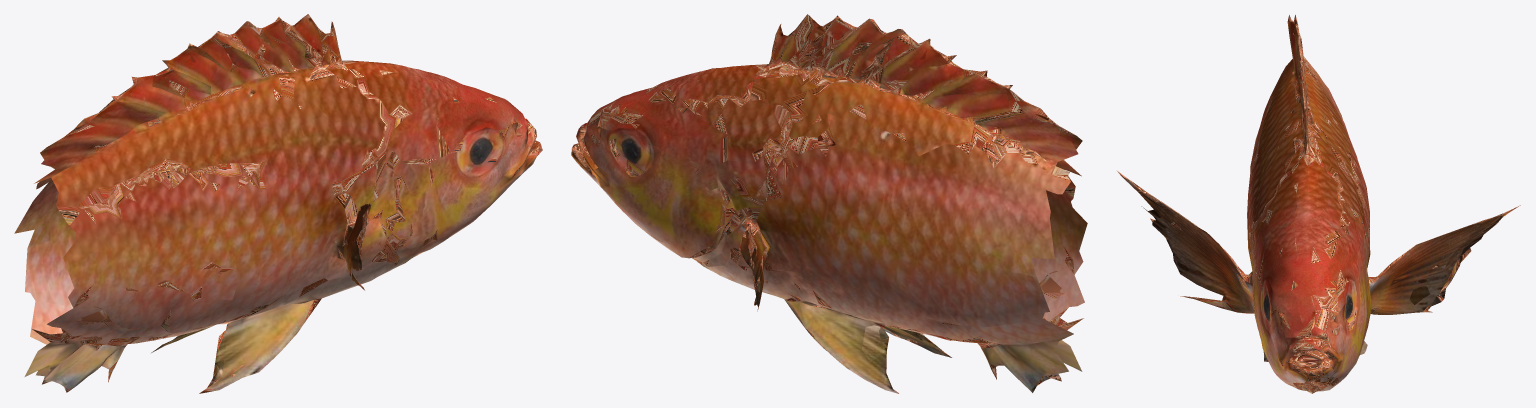
The model's file is monocle_a.glb.
3 views of the same model, side by side, from view 1: azimuth 30°, elevation 25°; view 2: azimuth 150°, elevation 25°; view 3: azimuth 270°, elevation 25° (orthographic). The views are drawn at different scales.
Parts seen in each view (by area): view 1: monocle_a; view 2: monocle_a; view 3: monocle_a.
Boxes of the visible parts, x1,y1,x2,y2 form: monocle_a: (14, 14, 542, 393); monocle_a: (571, 14, 1087, 393); monocle_a: (1117, 14, 1520, 393).
Bounding box in the file's own units: 0.2558 × 0.1622 × 0.1819.
1 material, 1 textured.
